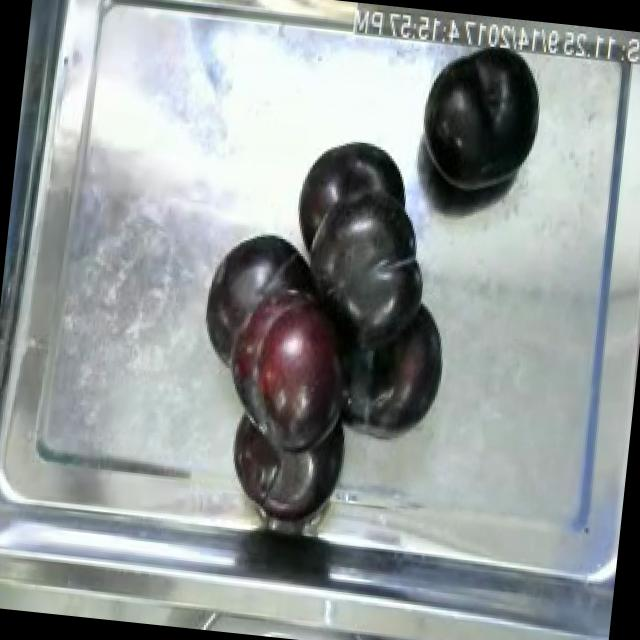Fruit: (204, 262, 372, 471), (408, 31, 554, 208)
